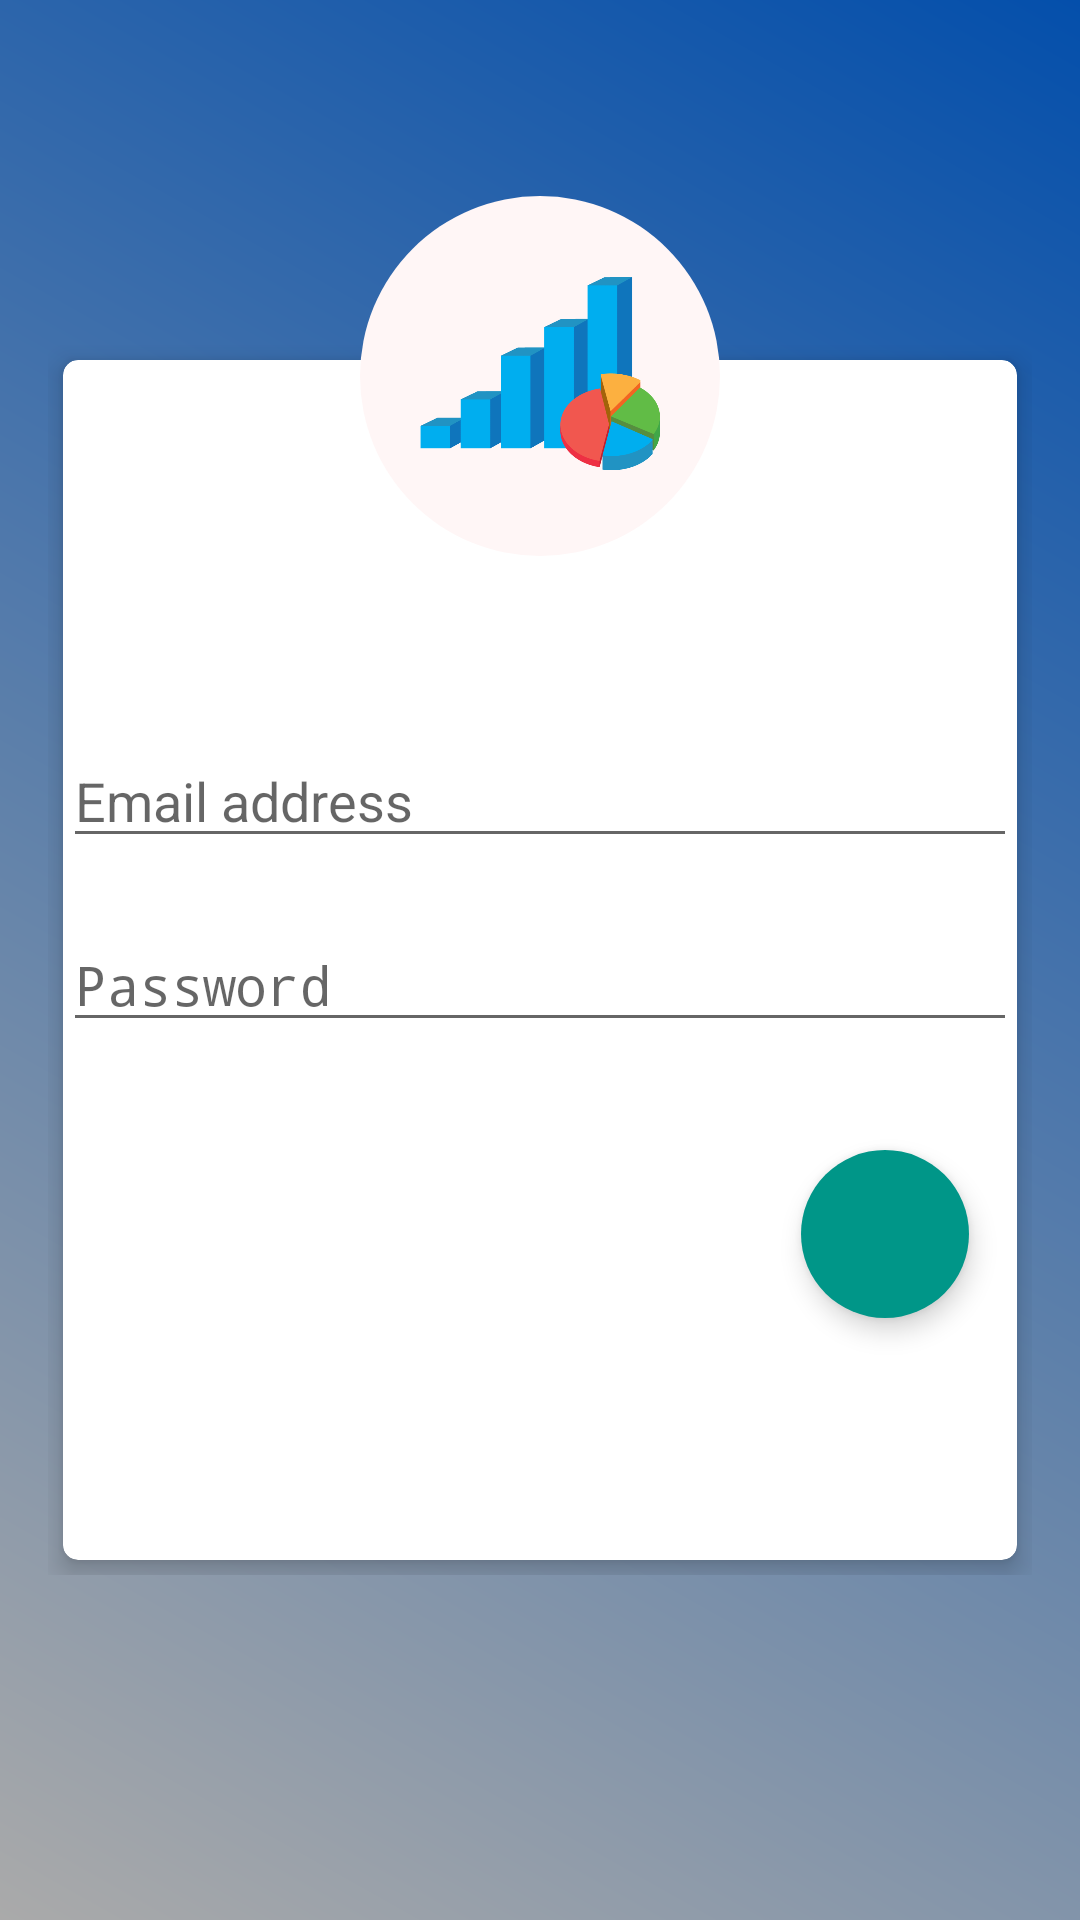

Named icons in this screenshot (1080×1920) and their centers, [x,y]:
stats: [540,376]
